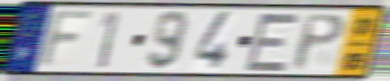1: (98, 10, 124, 71)
4: (191, 8, 235, 74)
9: (145, 8, 188, 73)
E: (242, 10, 304, 74)
F: (35, 8, 100, 71)
P: (291, 11, 349, 73)
